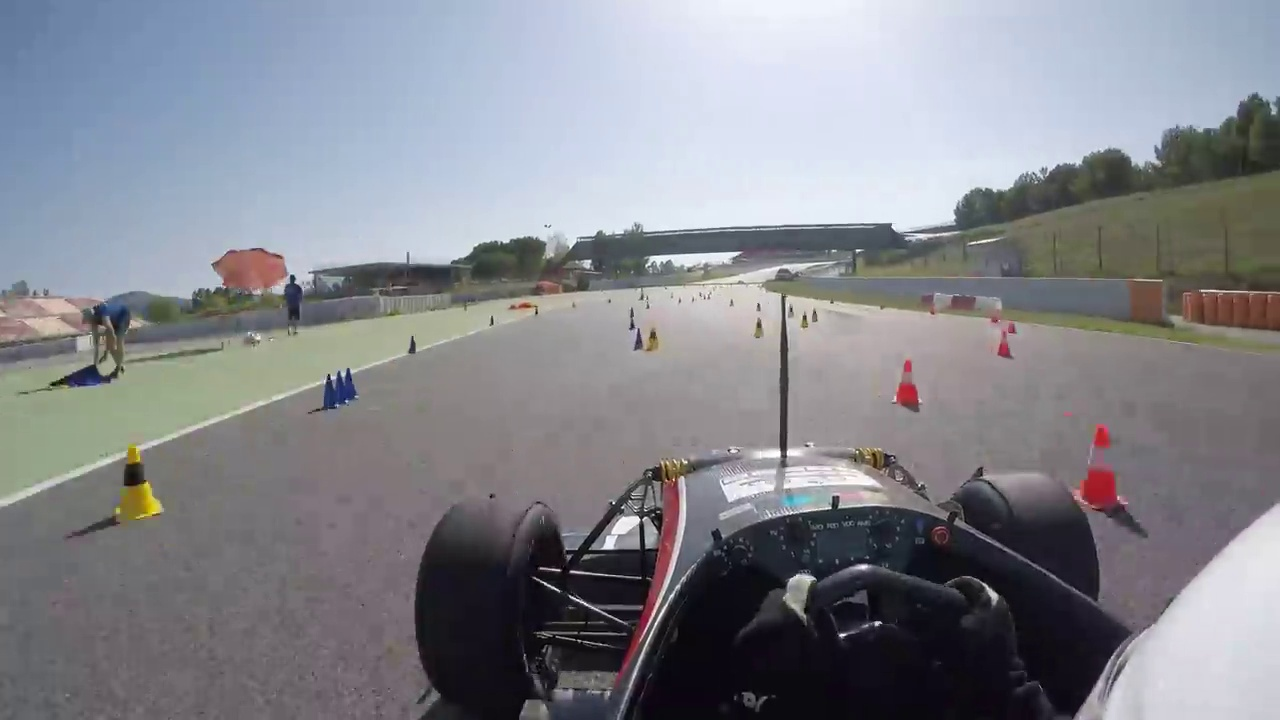Cone: (1076, 423, 1135, 507), (112, 444, 166, 522), (890, 356, 925, 407)
